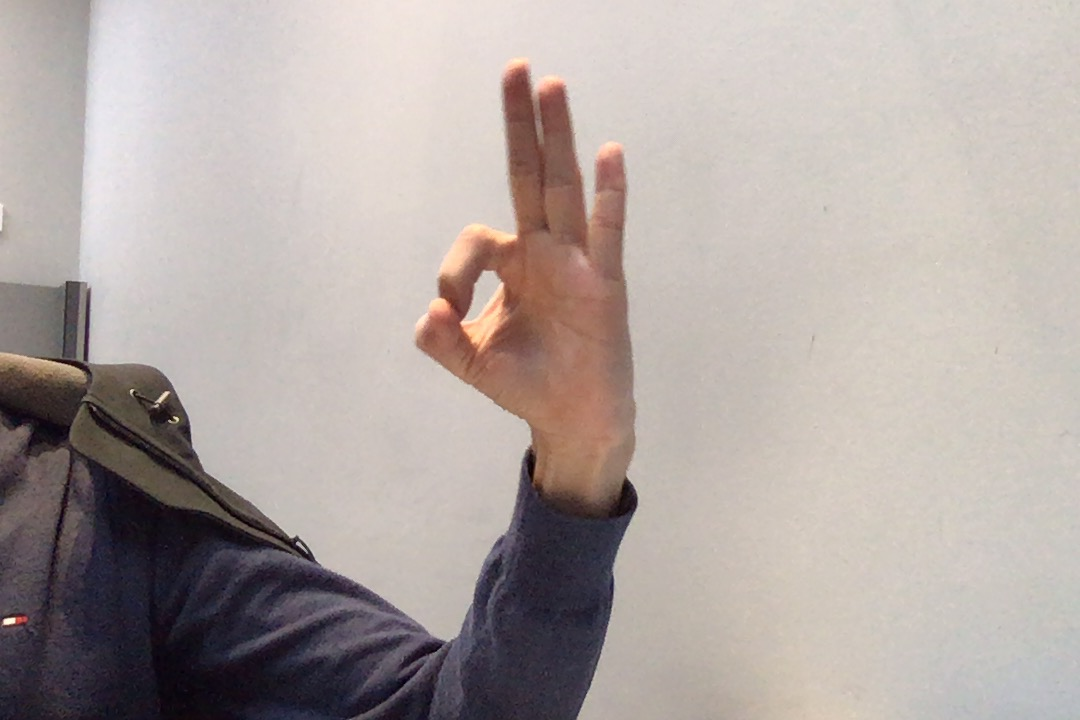oksign: (398, 50, 659, 450)
